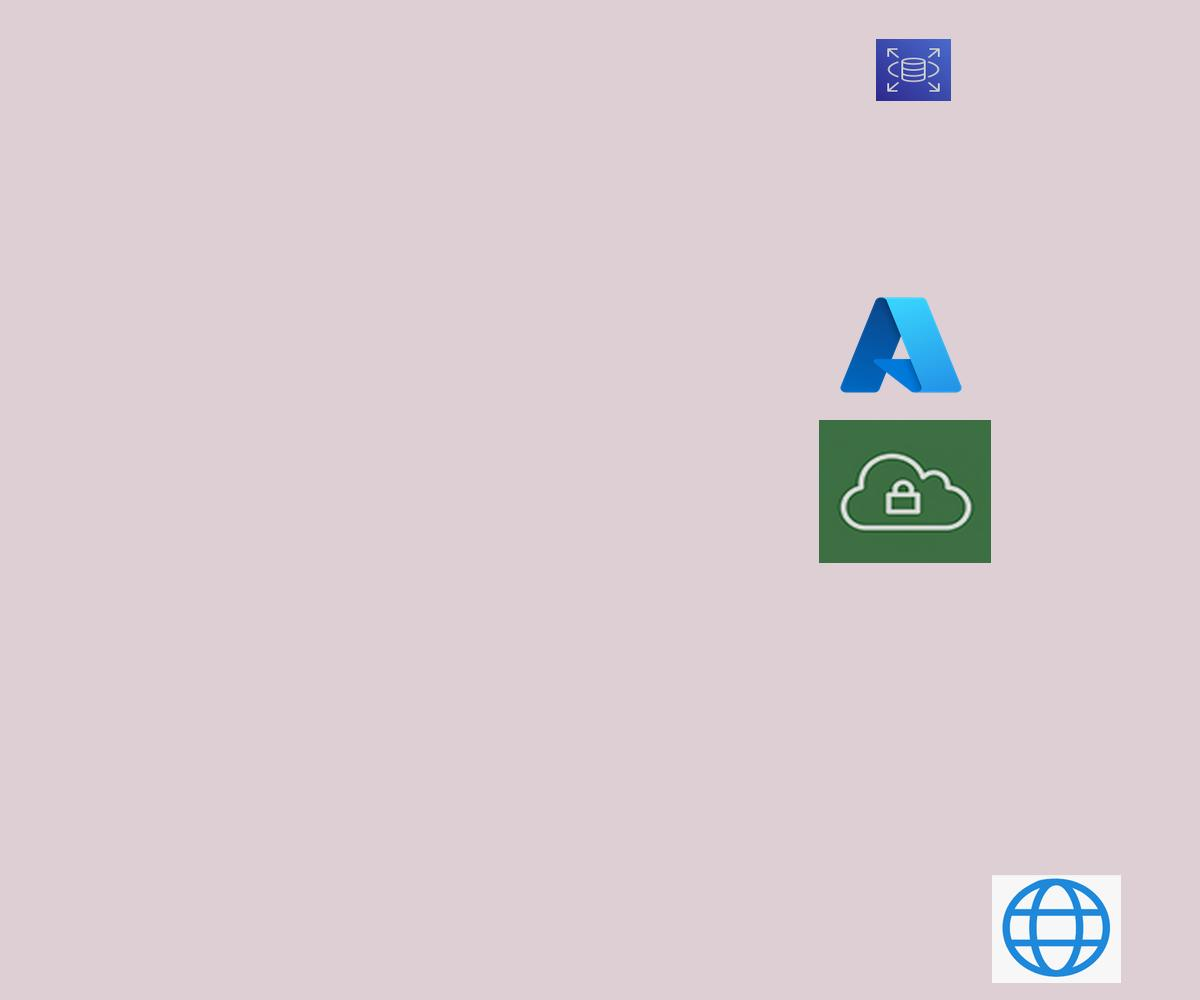AWS-Private_vpc: (819, 420, 991, 563)
AWS-RDS: (876, 39, 951, 101)
Azure_http: (992, 875, 1121, 983)
Azure_services: (835, 290, 967, 400)
